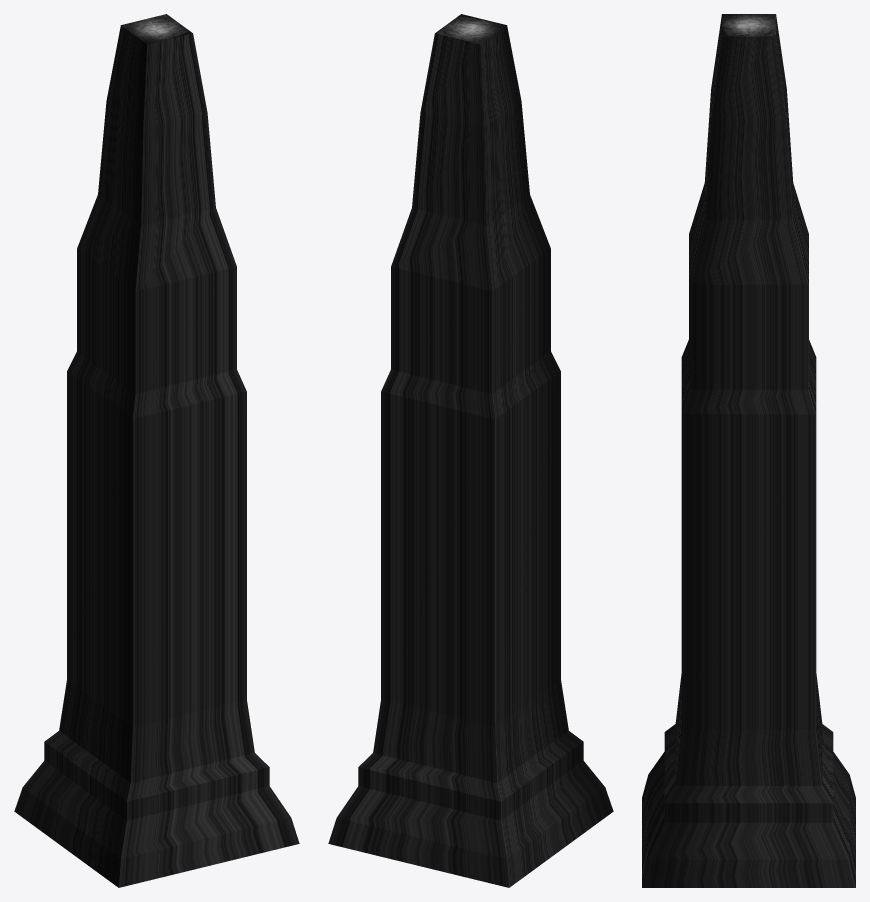
Rendered from tower.fbx.
3 renders of one model, left to right at view 1: azimuth 30°, elevation 25°; view 2: azimuth 150°, elevation 25°; view 3: azimuth 270°, elevation 25°, orthographic. The views are drawn at different scales.
Parts seen in each view (by area): view 1: Cube.001; view 2: Cube.001; view 3: Cube.001.
Boxes of the visible parts, x1,y1,x2,y2 form: Cube.001: [14, 14, 299, 887]; Cube.001: [328, 14, 613, 887]; Cube.001: [642, 14, 855, 887].
Bounding box in the file's own units: 266 × 1120 × 266.
